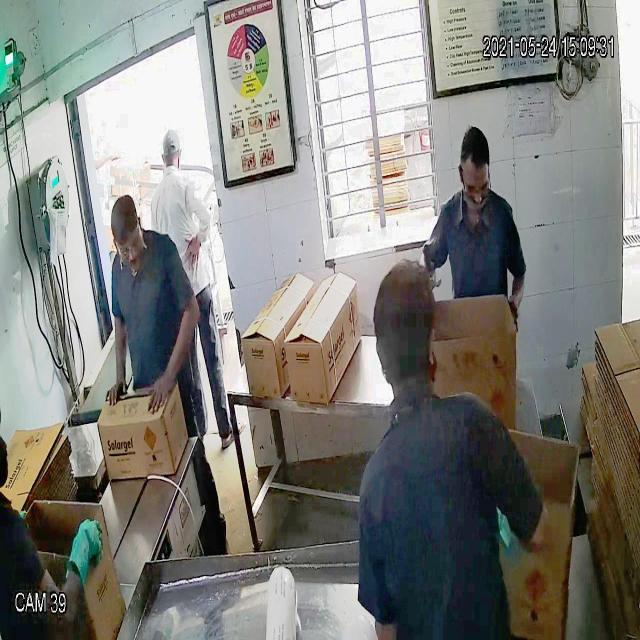glasses: (460, 166, 494, 206), (111, 230, 147, 264)
